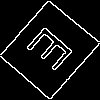E: (25, 24, 82, 80)
